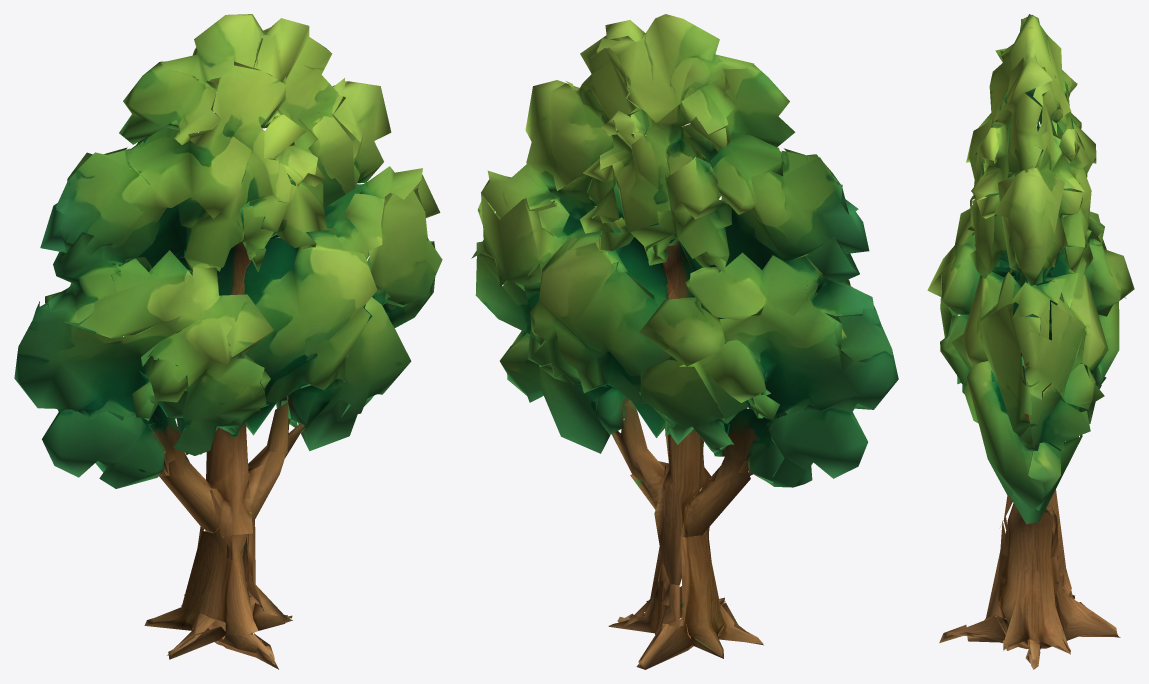
3 renders of one model, left to right at view 1: azimuth 30°, elevation 25°; view 2: azimuth 150°, elevation 25°; view 3: azimuth 270°, elevation 25°, orthographic.
Parts seen in each view (by area): view 1: quad; view 2: quad; view 3: quad.
Part boxes in pixels (left/top/right/bottom): quad: left=14, top=14, right=442, bottom=669; quad: left=471, top=14, right=898, bottom=669; quad: left=927, top=14, right=1134, bottom=669.
Bounding box in the file's own units: 247 × 350 × 104.
Materials: 1 (1 with a texture image).
